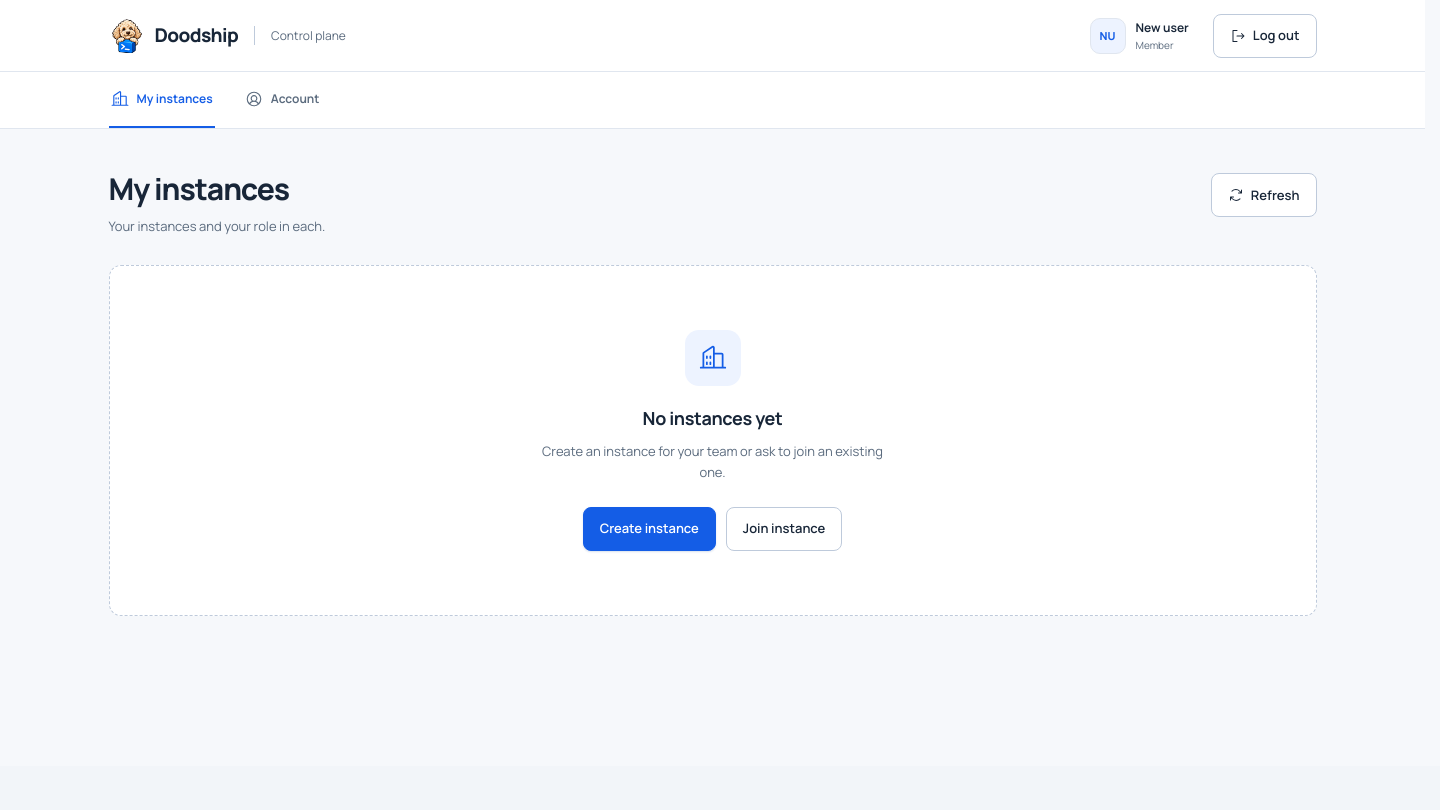
Test: lets an admitted user create their own instance without choosing another owner
The width and height of the screenshot is (1440, 810).
Click the button "Create instance": x=649, y=529 [583,507,716,551]
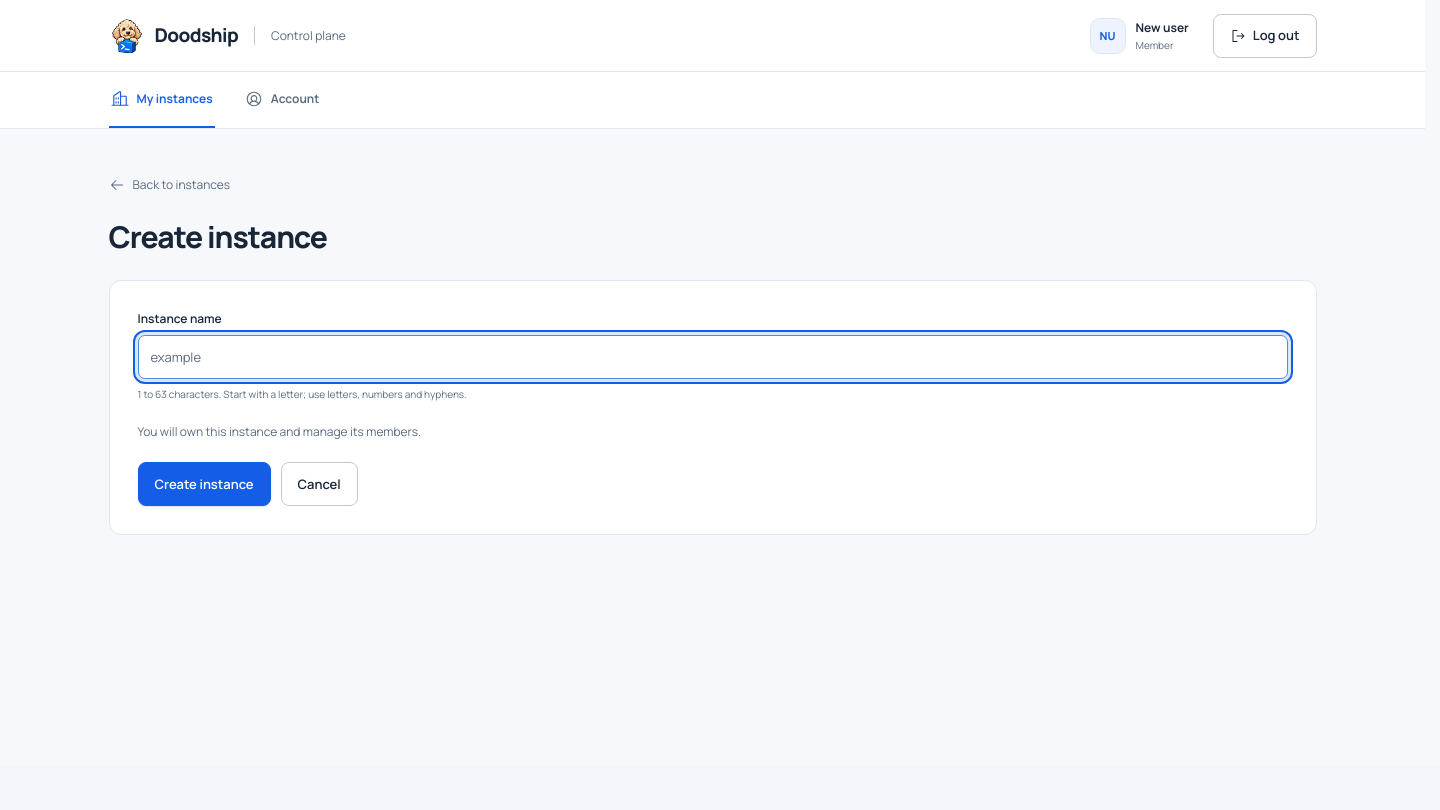
Result: the field labelled "Instance name" is empty
In the field labelled "Instance name": x=712, y=357 [138,335,1288,379], type "my-team"
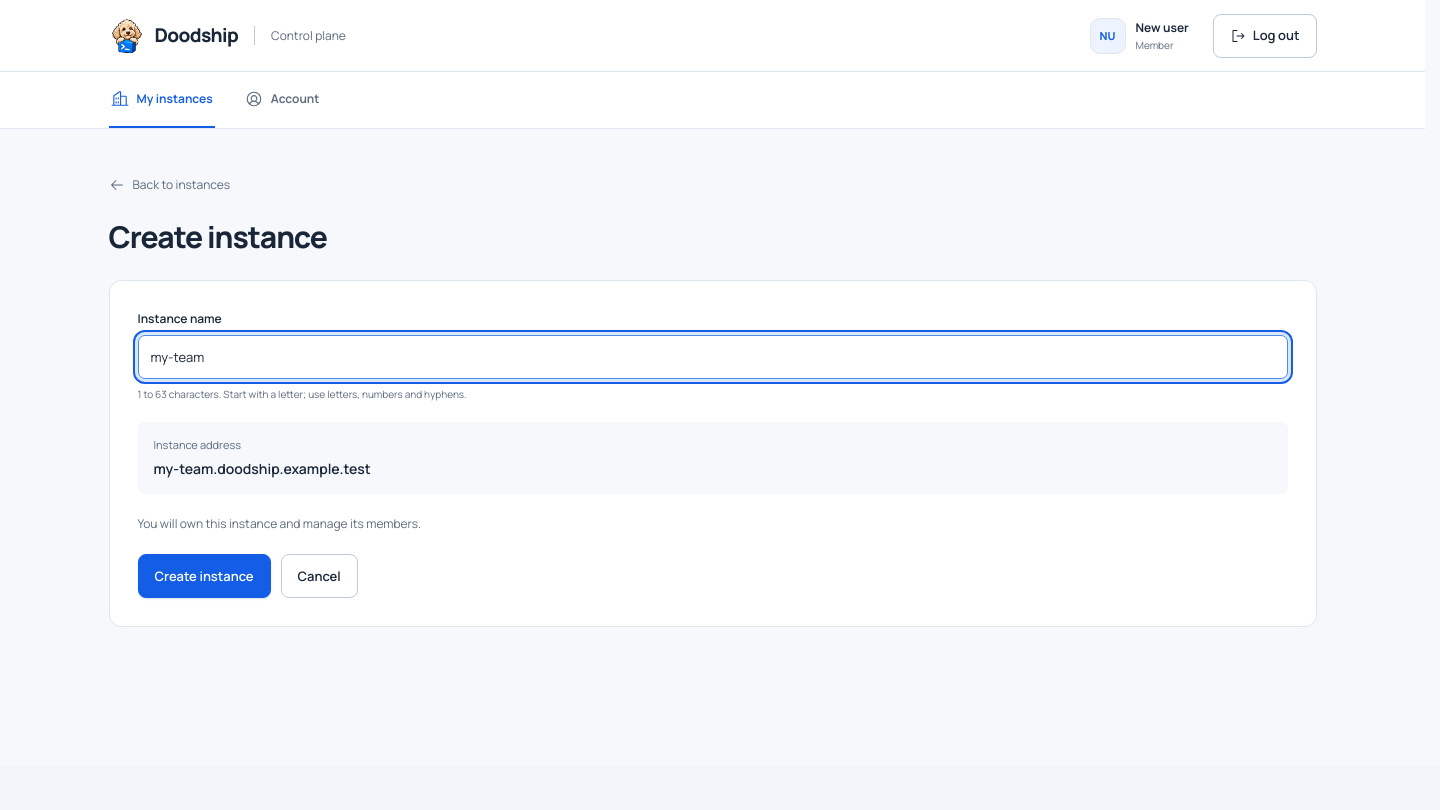
Click the button "Create instance": x=204, y=576 [138,554,271,598]
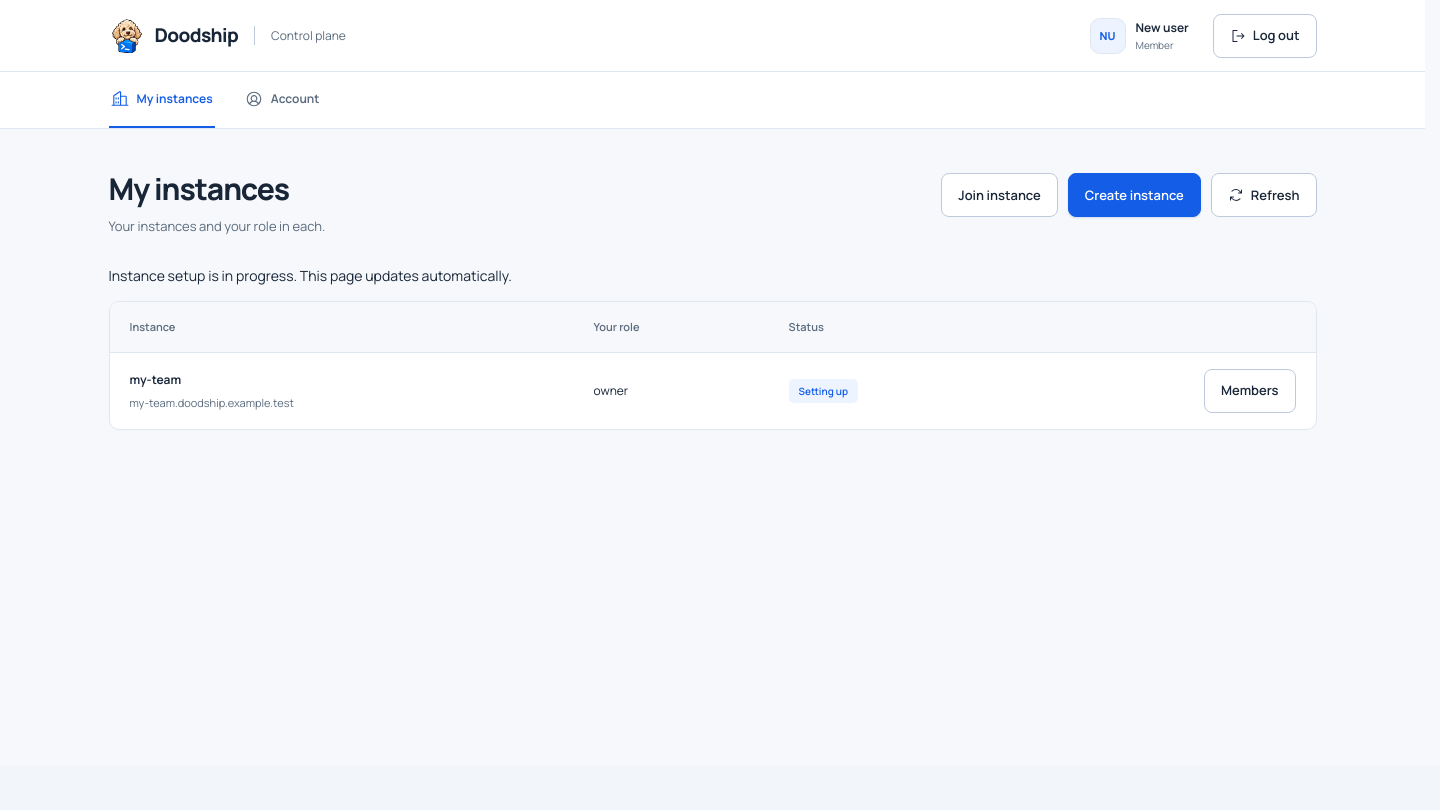
Result: the heading "My instances" is shown at [108,168,289,209]
Result: the text "owner" is shown at [574,352,769,429]
